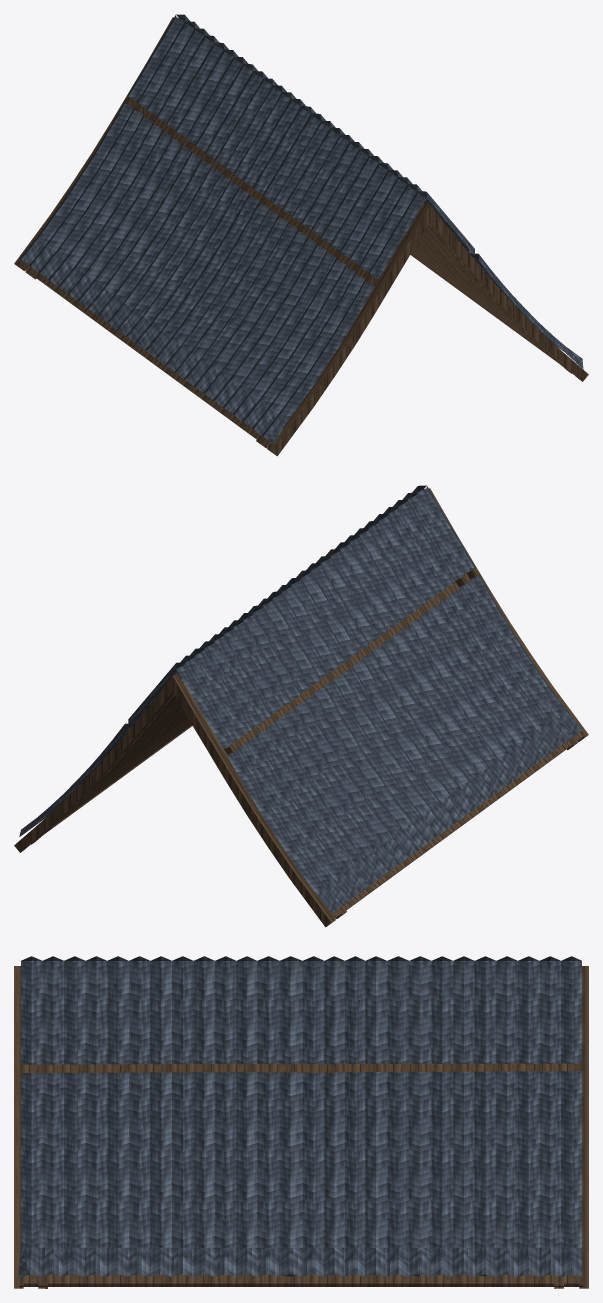
File: Roof_Slate_8x12.gltf
3 renders of one model, top to bottom at view 1: azimuth 30°, elevation 25°; view 2: azimuth 150°, elevation 25°; view 3: azimuth 270°, elevation 25°, orthographic. The views are drawn at different scales.
Visible parts, largest first — view 1: Roof_Slate_8x12; view 2: Roof_Slate_8x12; view 3: Roof_Slate_8x12.
Boxes of the visible parts, x1,y1,x2,y2 form: Roof_Slate_8x12: [14, 14, 588, 456]; Roof_Slate_8x12: [14, 485, 588, 927]; Roof_Slate_8x12: [14, 956, 588, 1288].
Bounding box in the file's own units: 9.95 × 6.58 × 13.89.
Materials: 2 (2 with a texture image).
